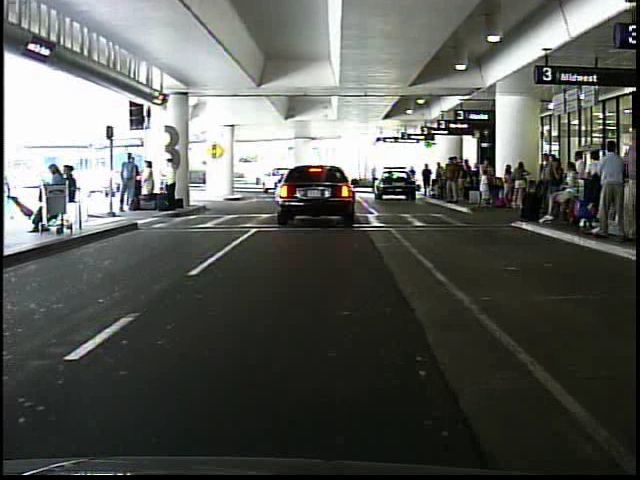person: (587, 138, 626, 237), (119, 151, 142, 216), (163, 155, 179, 211), (143, 160, 159, 207), (422, 162, 434, 197), (408, 162, 418, 192)
